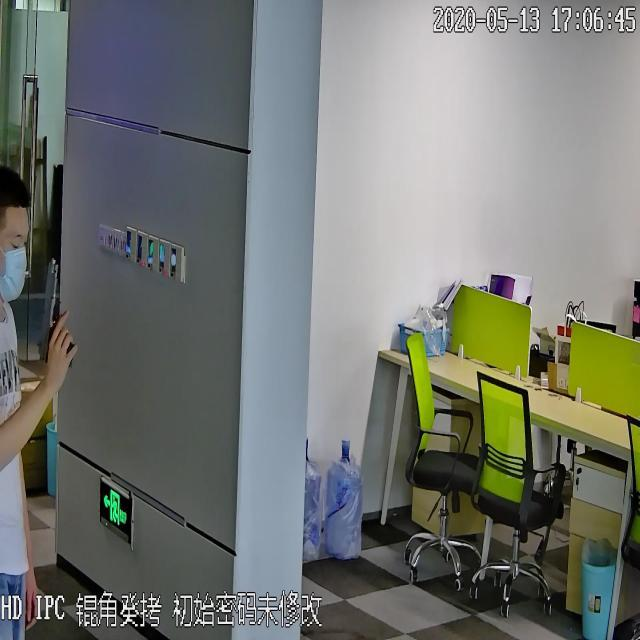gun: (34, 258, 76, 374)
